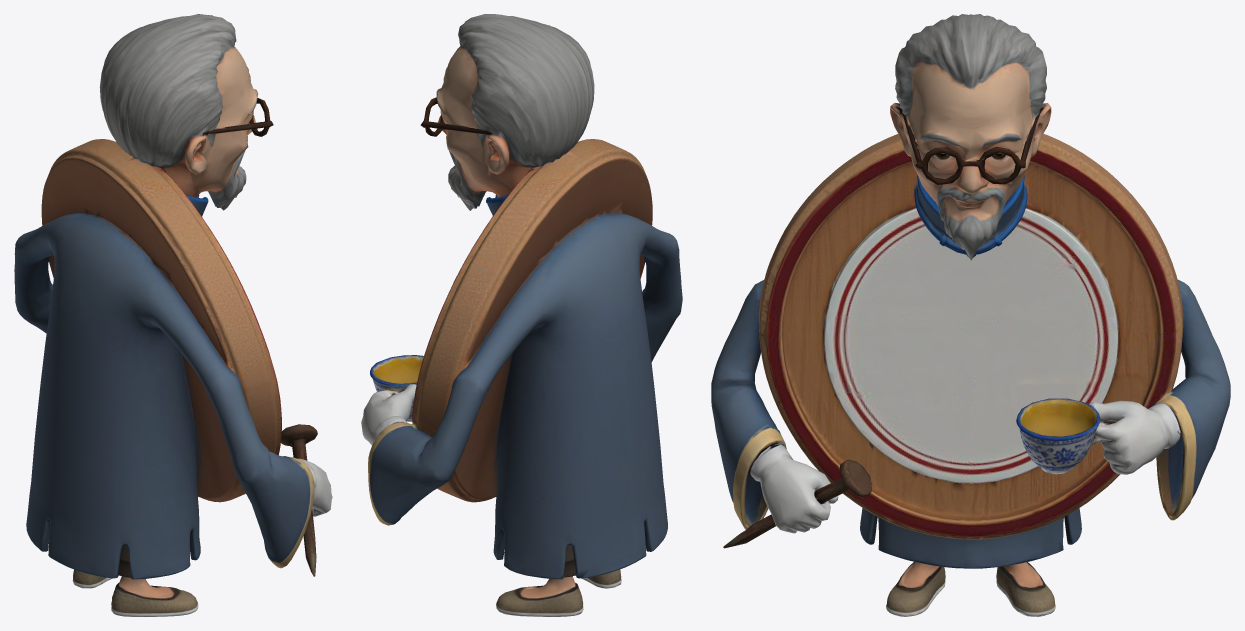
Rendered from p_shen.glb.
3 renders of one model, left to right at view 1: azimuth 30°, elevation 25°; view 2: azimuth 150°, elevation 25°; view 3: azimuth 270°, elevation 25°, orthographic. The views are drawn at different scales.
Visible parts, largest first — view 1: tripo_node_11b8943d-9b78-4c8b-b3f5-1e6b0b9e1e71; view 2: tripo_node_11b8943d-9b78-4c8b-b3f5-1e6b0b9e1e71; view 3: tripo_node_11b8943d-9b78-4c8b-b3f5-1e6b0b9e1e71.
Boxes of the visible parts, left/top/right/bottom form: tripo_node_11b8943d-9b78-4c8b-b3f5-1e6b0b9e1e71: left=14, top=14, right=332, bottom=616; tripo_node_11b8943d-9b78-4c8b-b3f5-1e6b0b9e1e71: left=361, top=14, right=682, bottom=616; tripo_node_11b8943d-9b78-4c8b-b3f5-1e6b0b9e1e71: left=711, top=14, right=1230, bottom=616.
Bounding box in the file's own units: 0.4315 × 0.9798 × 0.7638.
Materials: 1 (1 with a texture image).
